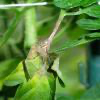Tomato leaf late blight: (2, 33, 65, 100)
